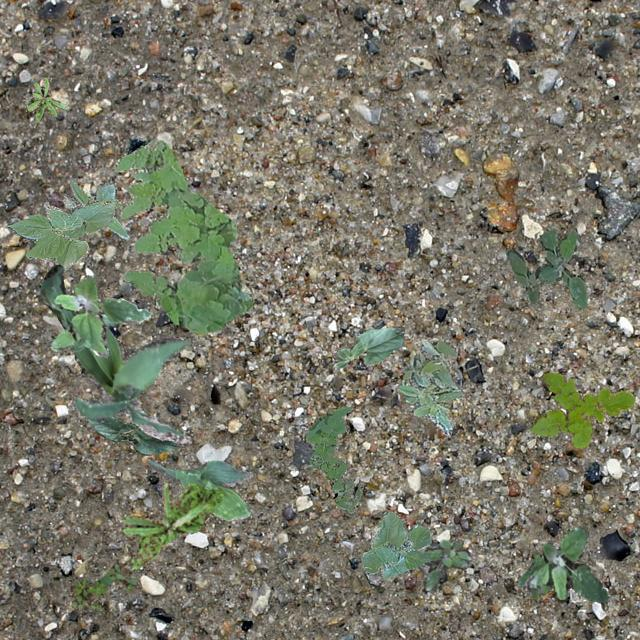crop: (40, 264, 190, 444), (6, 200, 114, 272), (146, 456, 252, 520), (360, 510, 430, 578), (84, 414, 178, 454), (332, 324, 404, 368)
weed: (112, 138, 252, 334), (121, 482, 221, 568), (48, 274, 150, 356), (530, 372, 634, 448), (516, 524, 608, 602), (504, 228, 586, 310), (398, 336, 462, 434), (304, 406, 362, 512), (60, 178, 128, 240), (68, 562, 136, 608), (420, 538, 470, 590), (27, 76, 68, 118)
